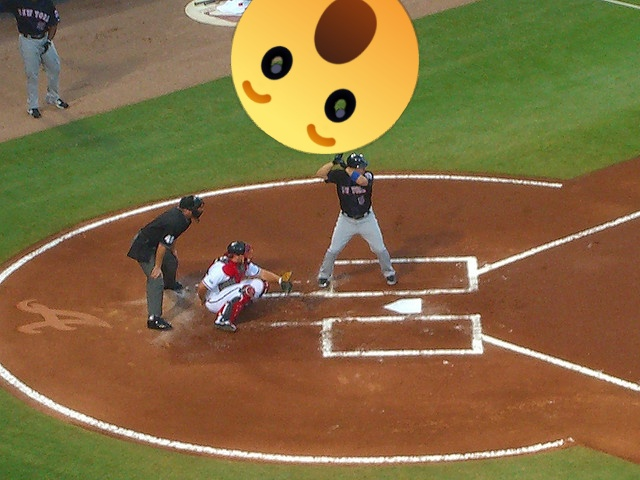wow: (231, 0, 419, 154)
